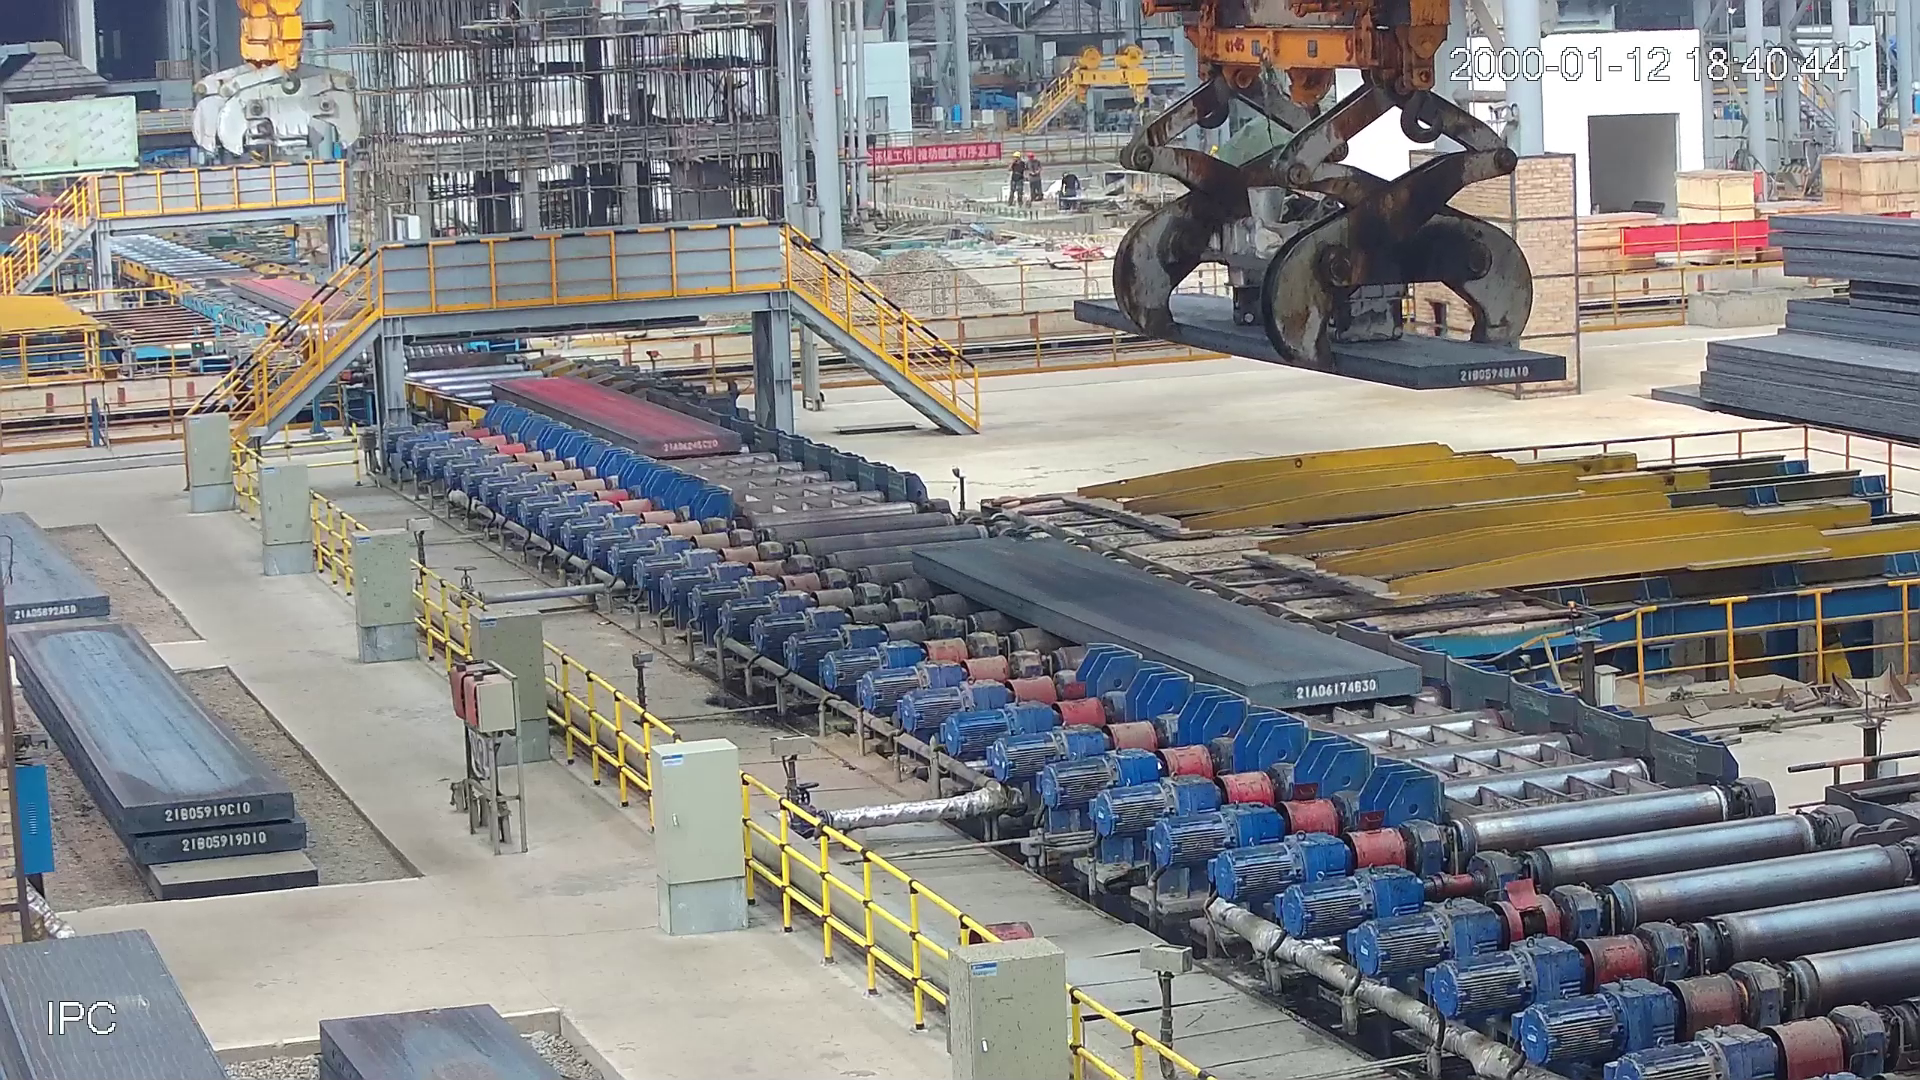crane: (185, 1, 363, 160)
slab: (893, 535, 1431, 716), (483, 368, 748, 464), (224, 276, 373, 324)
